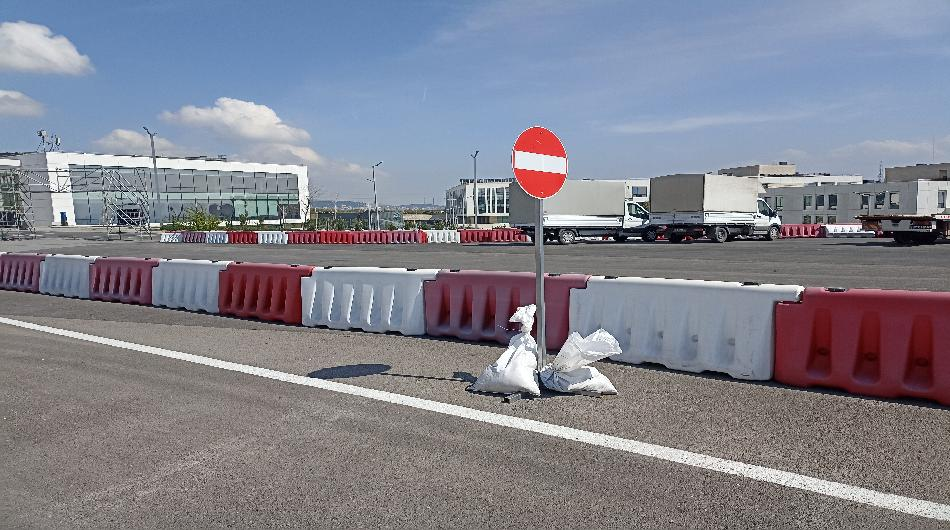girilmez: (510, 124, 572, 199)
